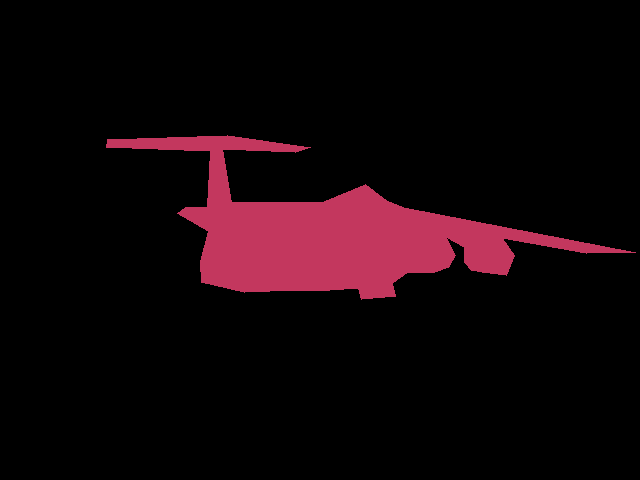Airplane: (106, 135, 635, 299)
